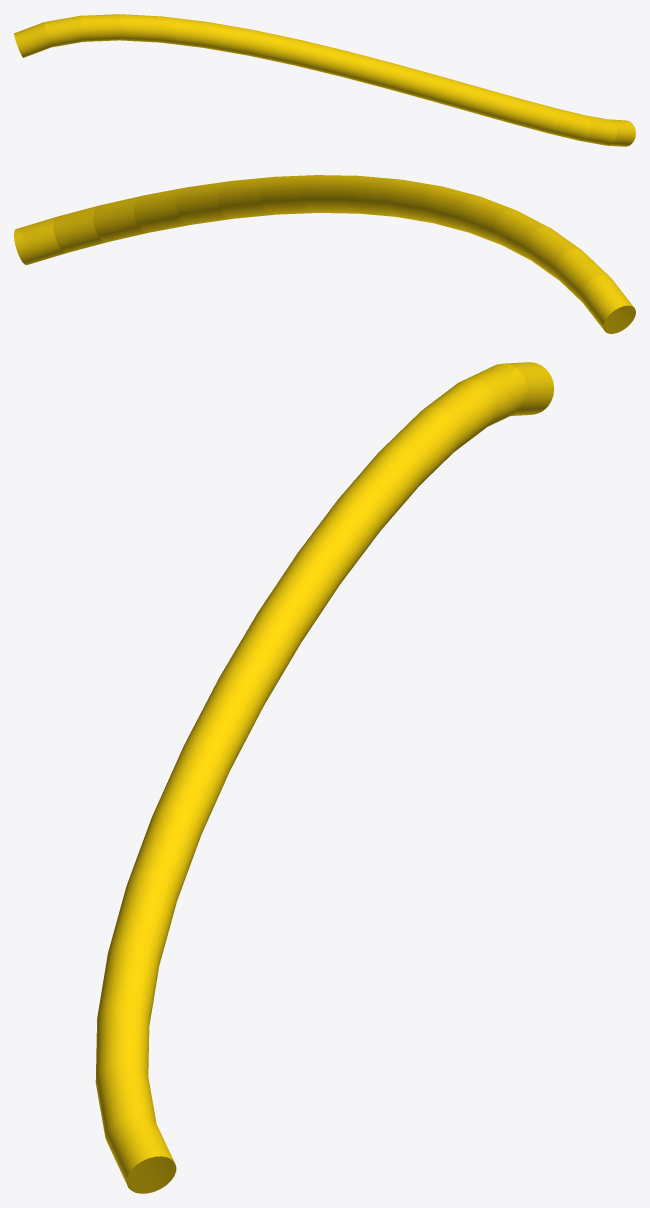
File: Event_421127236_track_38.fbx
3 renders of one model, top to bottom at view 1: azimuth 30°, elevation 25°; view 2: azimuth 150°, elevation 25°; view 3: azimuth 270°, elevation 25°, orthographic. The views are drawn at different scales.
Parts seen in each view (by area): view 1: Model; view 2: Model; view 3: Model.
Part boxes in pixels (x1,y1,x2,y2): Model: [14, 14, 635, 146]; Model: [14, 175, 635, 333]; Model: [95, 362, 554, 1193].
Size of the model in its own units: 0.9154 by 0.3055 by 0.3469.
